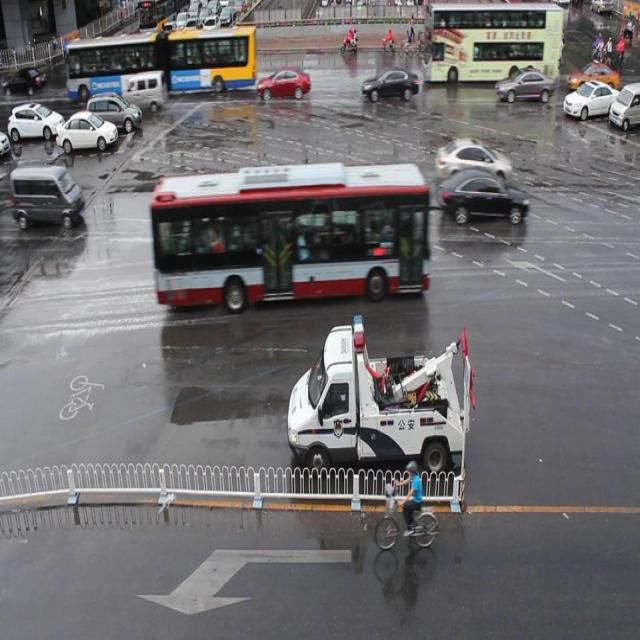car: (437, 167, 528, 228), (434, 137, 511, 189), (561, 79, 622, 120), (494, 67, 554, 102), (361, 66, 418, 101), (256, 67, 310, 102), (564, 59, 618, 94)
van: (153, 160, 426, 303), (66, 31, 255, 93), (422, 1, 561, 83)
